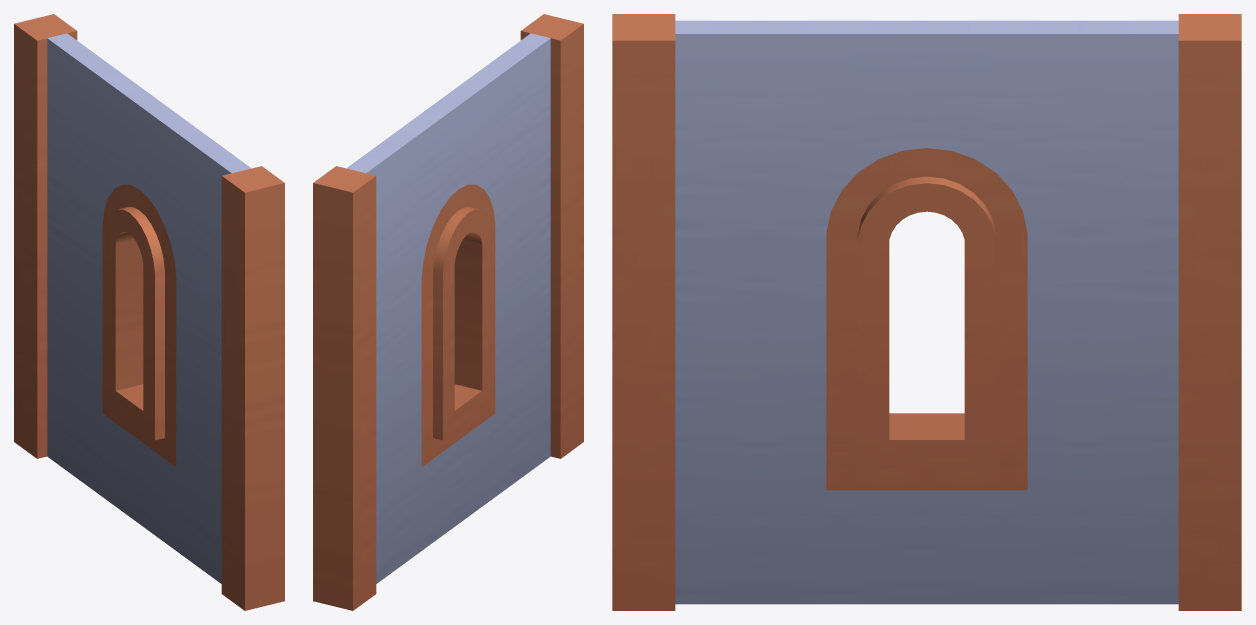
File: wallWindowRound.fbx
3 renders of one model, left to right at view 1: azimuth 30°, elevation 25°; view 2: azimuth 150°, elevation 25°; view 3: azimuth 270°, elevation 25°, orthographic. The views are drawn at different scales.
Parts seen in each view (by area): view 1: wallWindowRound; view 2: wallWindowRound; view 3: wallWindowRound.
Part boxes in pixels (bbox=[...]): wallWindowRound: bbox=[14, 14, 284, 610]; wallWindowRound: bbox=[313, 14, 583, 610]; wallWindowRound: bbox=[612, 14, 1241, 610].
Size of the model in its own units: 0.1 by 1 by 1.
